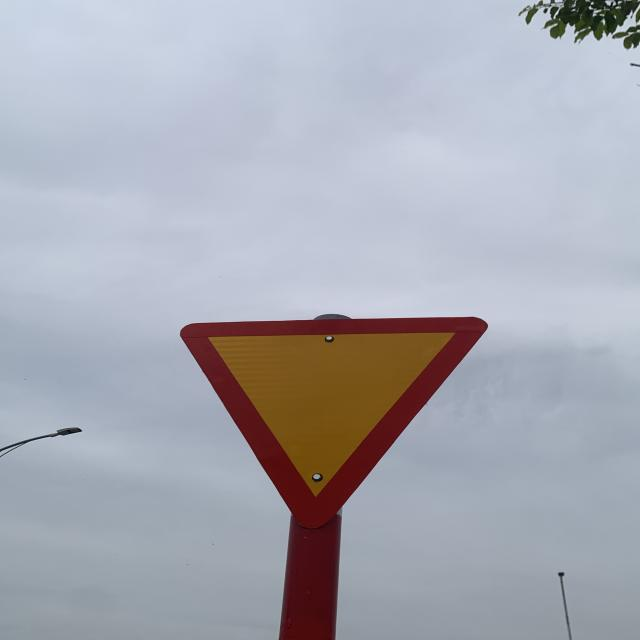Gioi_Han_Toc_Do_25: (182, 316, 490, 525)
